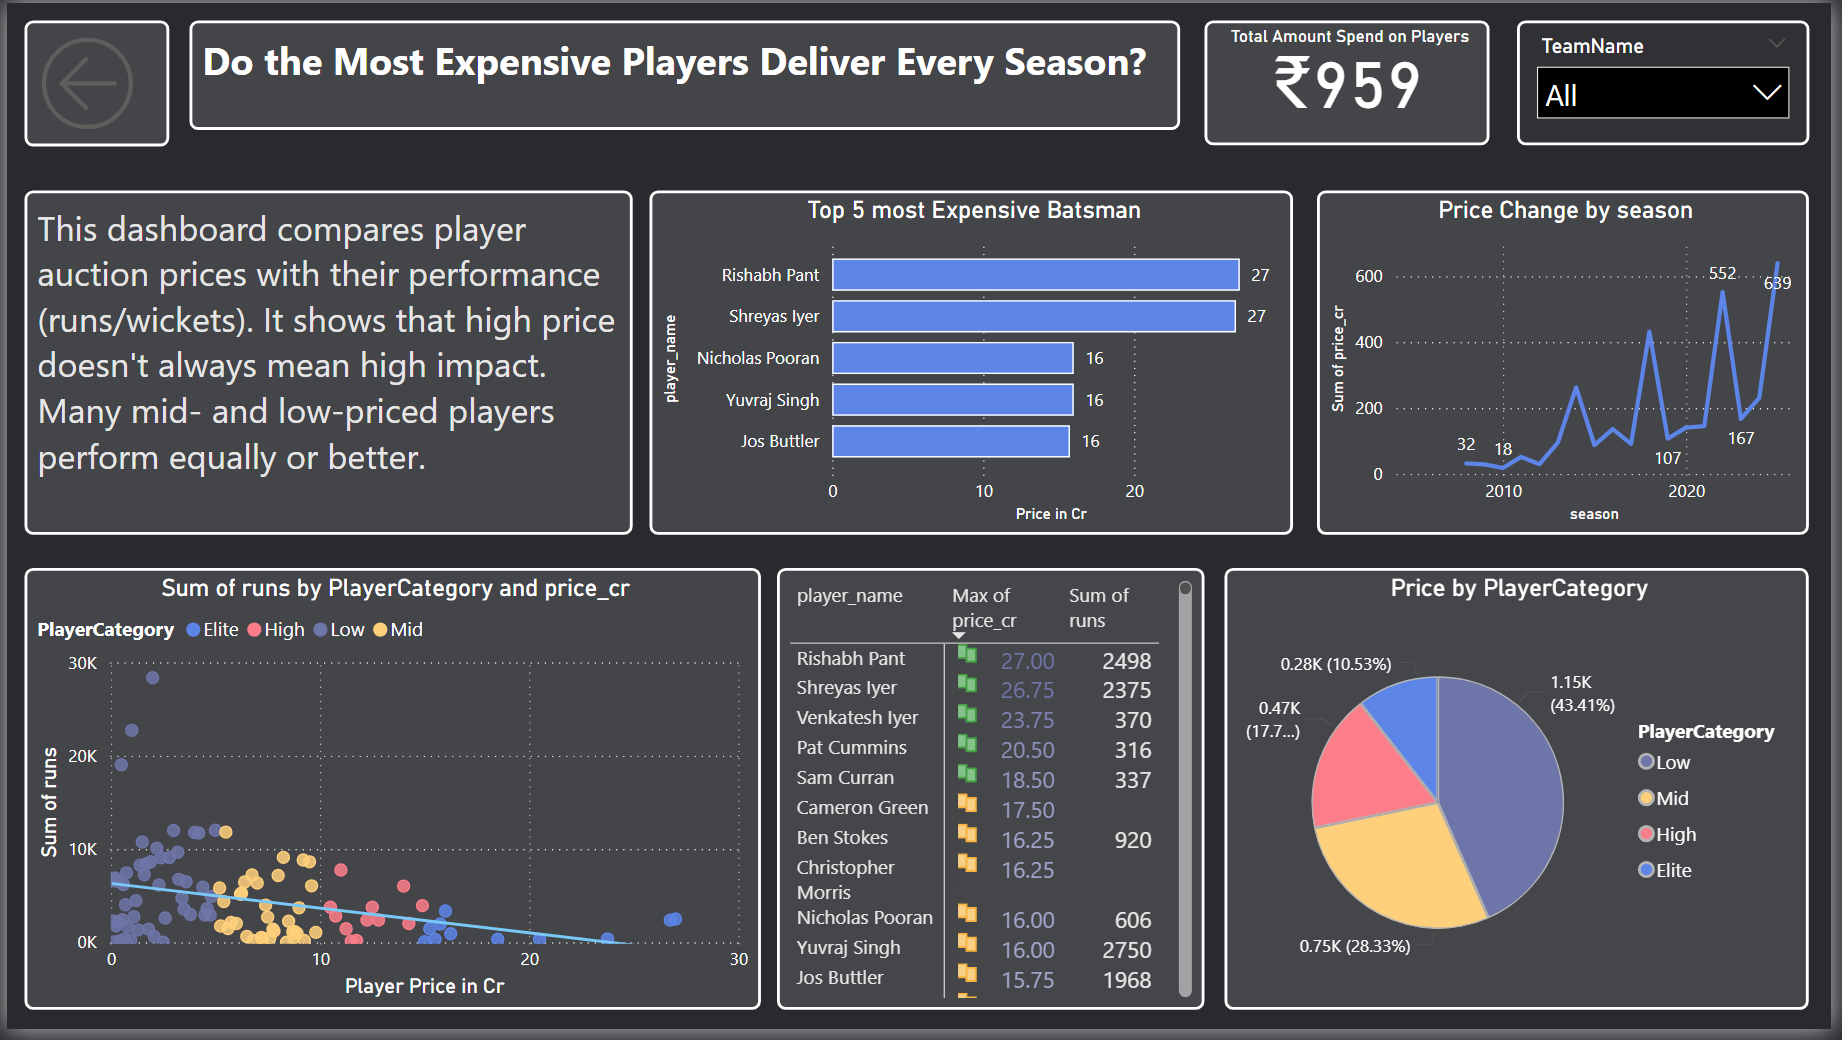

This screenshot's page, from the dashboard's own definition file:
{"tool":"powerbi","page":{"name":"Price vs Performance 1","canvas":[1280,720],"ordinal":1},"visuals":[{"type":"clusteredBarChart","title":"Top 5 most Expensive Batsman","fields":{"Category":["auction_data_final.player_name"],"Y":["auction_data_final.price_cr"]},"box":[450,131.7,451.7,241.7],"z":0},{"type":"scatterChart","fields":{"Series":["auction_data_final.PlayerCategory"],"Y":["most_runs_final.runs"],"X":["auction_data_final.price_cr"]},"box":[11.7,396.7,516.7,310],"z":1000},{"type":"slicer","title":"Select Season","fields":{"Values":["Earning.TeamName"]},"box":[1059.6,12.3,205.3,87.7],"z":2000},{"type":"textbox","box":[128.3,11.7,695,76.7],"z":3000},{"type":"pivotTable","fields":{"Rows":["auction_data_final.player_name"],"Values":["auction_data_final.price_cr","most_runs_final.runs"]},"box":[540,396.7,300,310],"z":4000},{"type":"card","title":"Total Amount Spend on Players","fields":{"Values":["auction_data_final.price_cr"]},"box":[840.4,12.3,200,87.7],"z":5000},{"type":"textbox","box":[11.7,131.7,426.7,241.7],"z":6000},{"type":"actionButton","box":[11.7,11.7,101.7,88.3],"z":7000},{"type":"pieChart","title":"Price by PlayerCategory","fields":{"Category":["auction_data_final.PlayerCategory"],"Y":["auction_data_final.price_cr"]},"box":[855,396.7,410,310],"z":8000},{"type":"lineChart","title":"Price Change by season","fields":{"Category":["auction_data_final.season"],"Y":["auction_data_final.price_cr"]},"box":[920,131.7,345,241.7],"z":9000}]}

Visuals, with their boxes in screenshot pixels (x1, y1, x2, y2), scaled from the page's 1280x720 canvas onto the 1842x1040 screenshot:
"Top 5 most Expensive Batsman" clusteredBarChart: select_region(648, 190, 1298, 539)
scatterChart - auction_data_final.PlayerCategory x most_runs_final.runs: select_region(17, 573, 760, 1021)
"Select Season" slicer: select_region(1525, 18, 1820, 144)
textbox: select_region(185, 17, 1185, 128)
pivotTable - auction_data_final.player_name x auction_data_final.price_cr: select_region(777, 573, 1209, 1021)
"Total Amount Spend on Players" card: select_region(1209, 18, 1497, 144)
textbox: select_region(17, 190, 631, 539)
actionButton: select_region(17, 17, 163, 144)
"Price by PlayerCategory" pieChart: select_region(1230, 573, 1820, 1021)
"Price Change by season" lineChart: select_region(1324, 190, 1820, 539)
